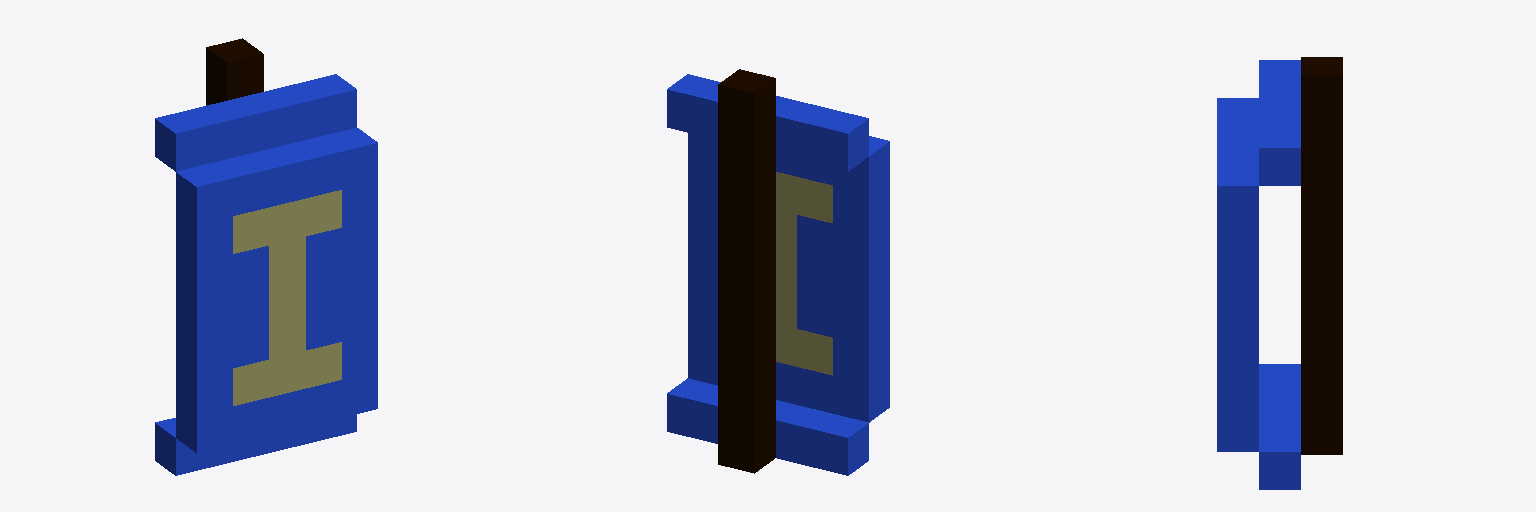
3 views of the same model, side by side, from view 1: azimuth 30°, elevation 25°; view 2: azimuth 150°, elevation 25°; view 3: azimuth 270°, elevation 25° (orthographic).
Size of the model in its own units: 5 by 10 by 3.
1 materials, 1 textured.